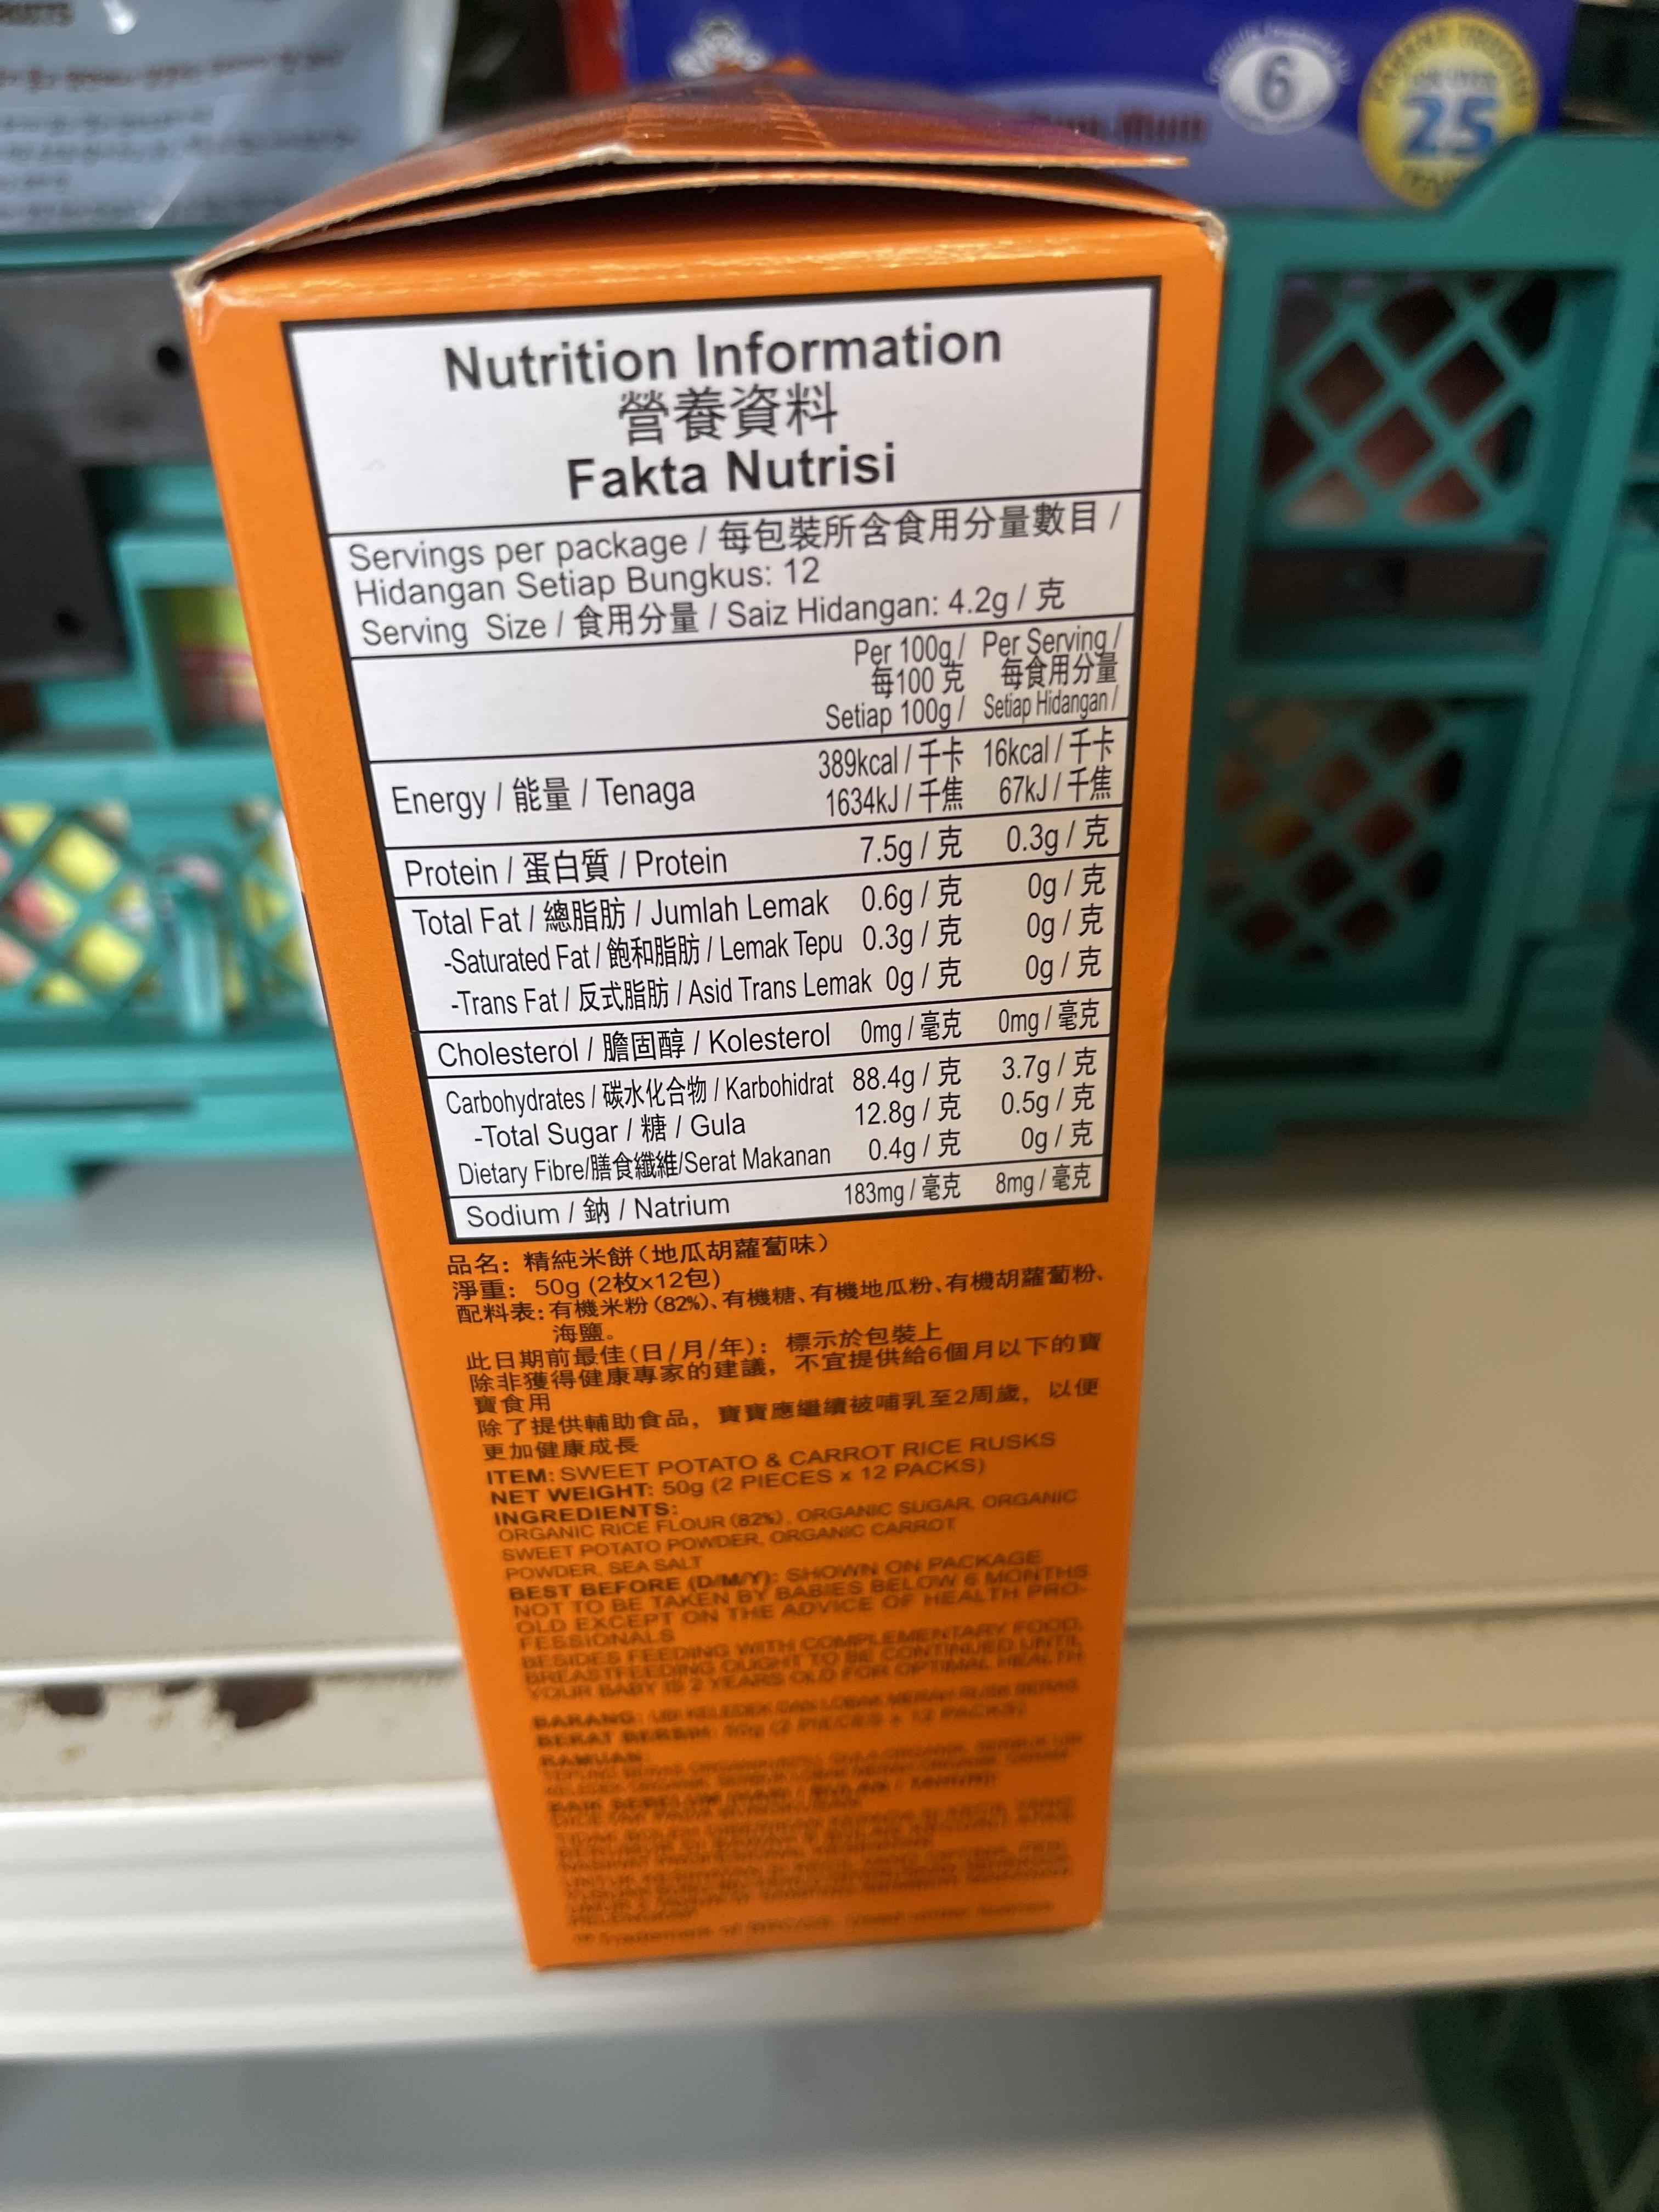object_name: (434, 225, 1175, 1909)
